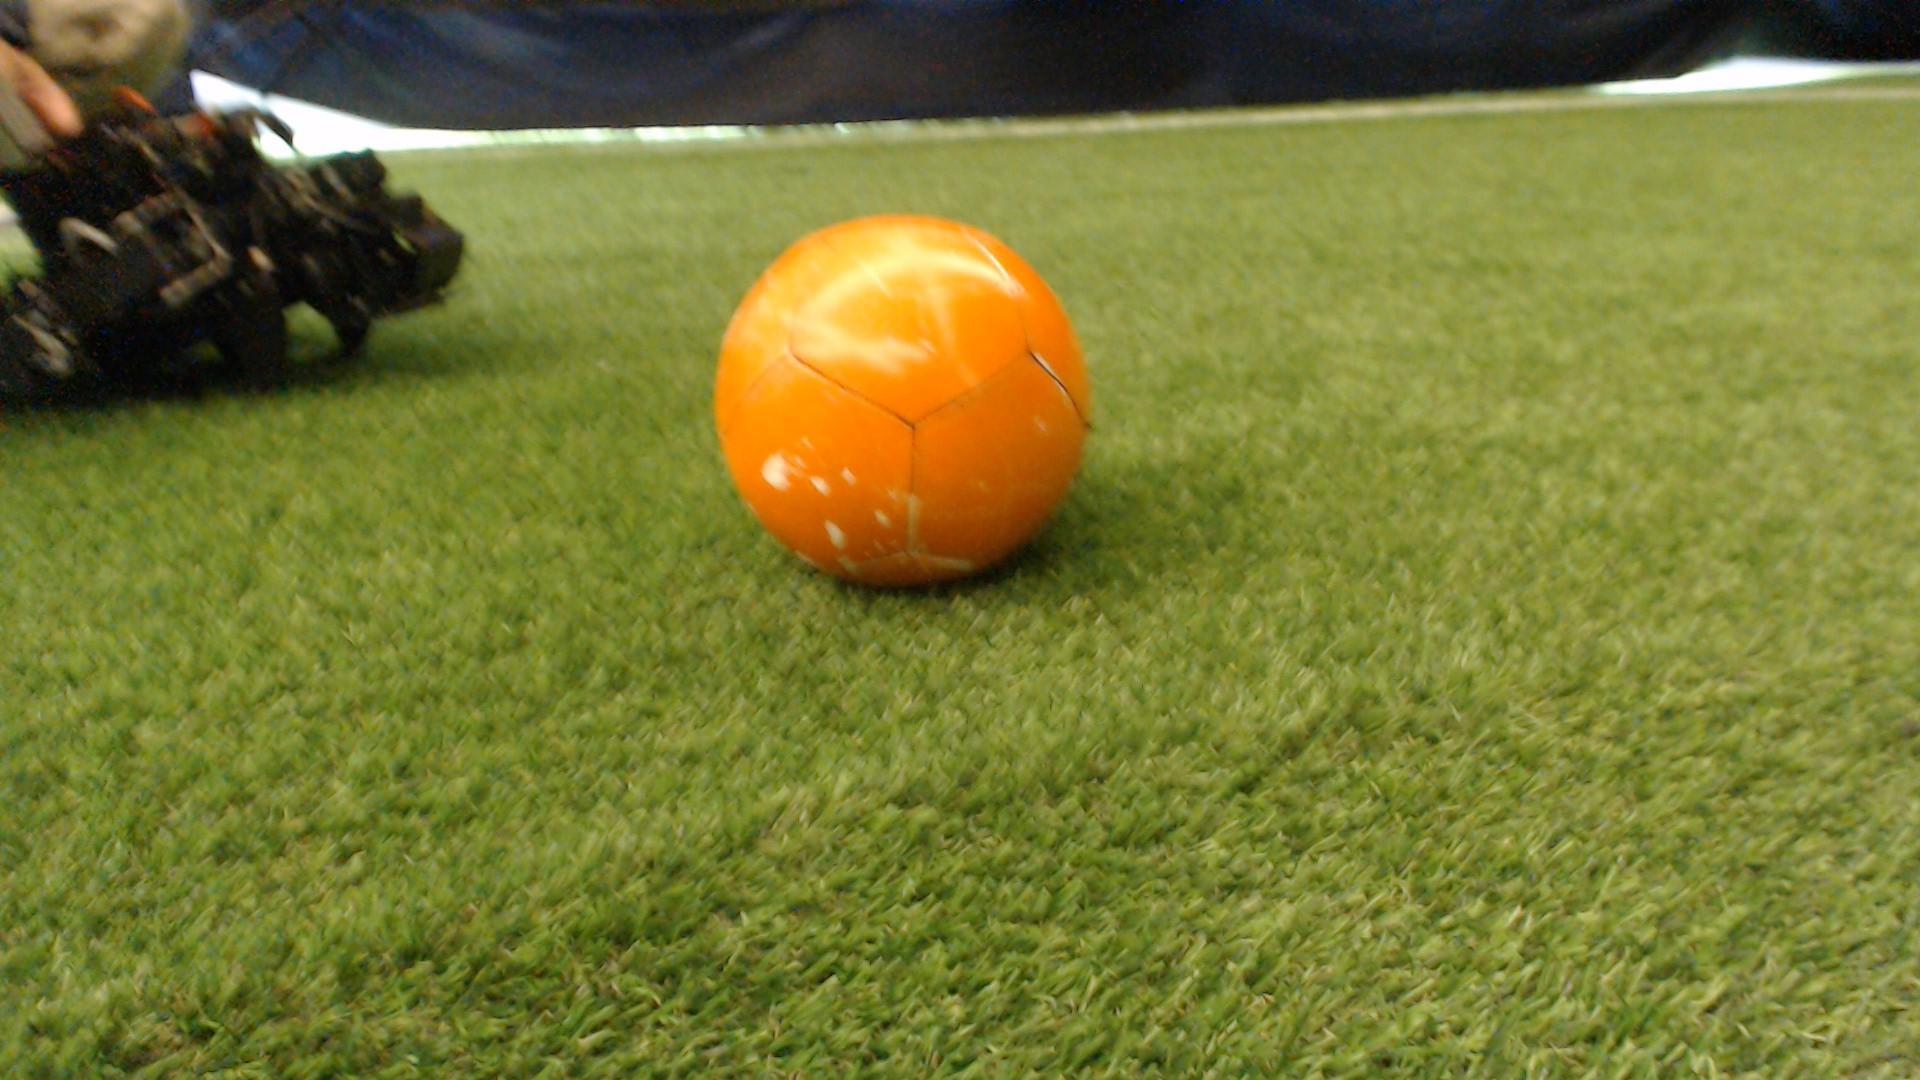bola: (682, 195, 1138, 612)
